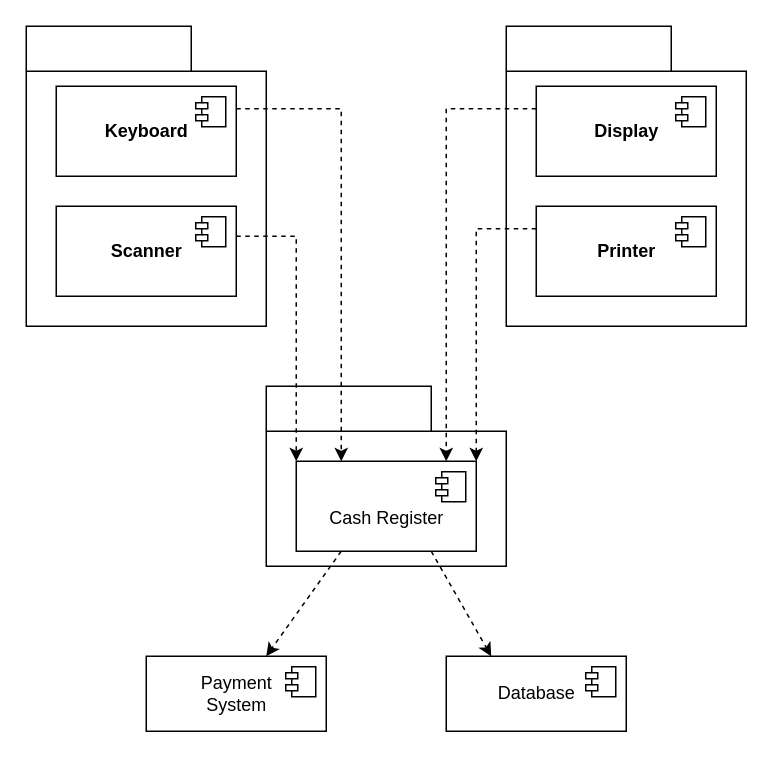
Image size: 773x758. Some labels were removed from this diagram. Each missing label, with the box of its shape:
Controllers: (25, 25, 266, 326)
Model: (265, 385, 506, 566)
Views: (505, 25, 746, 326)
